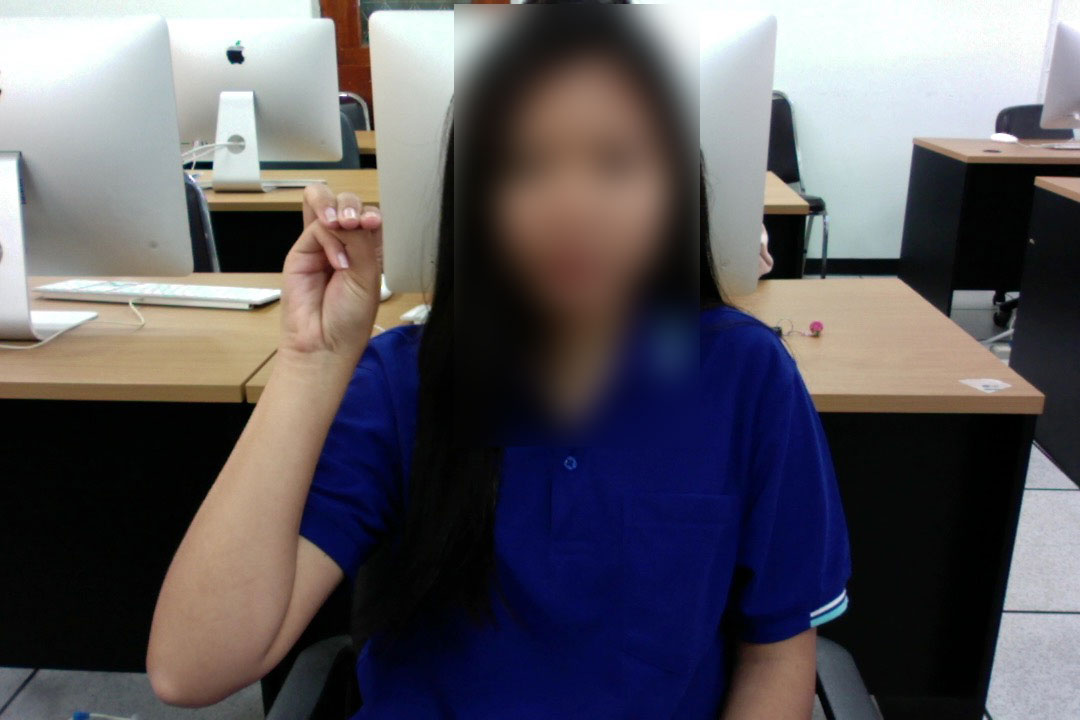mor: (273, 172, 386, 372)
